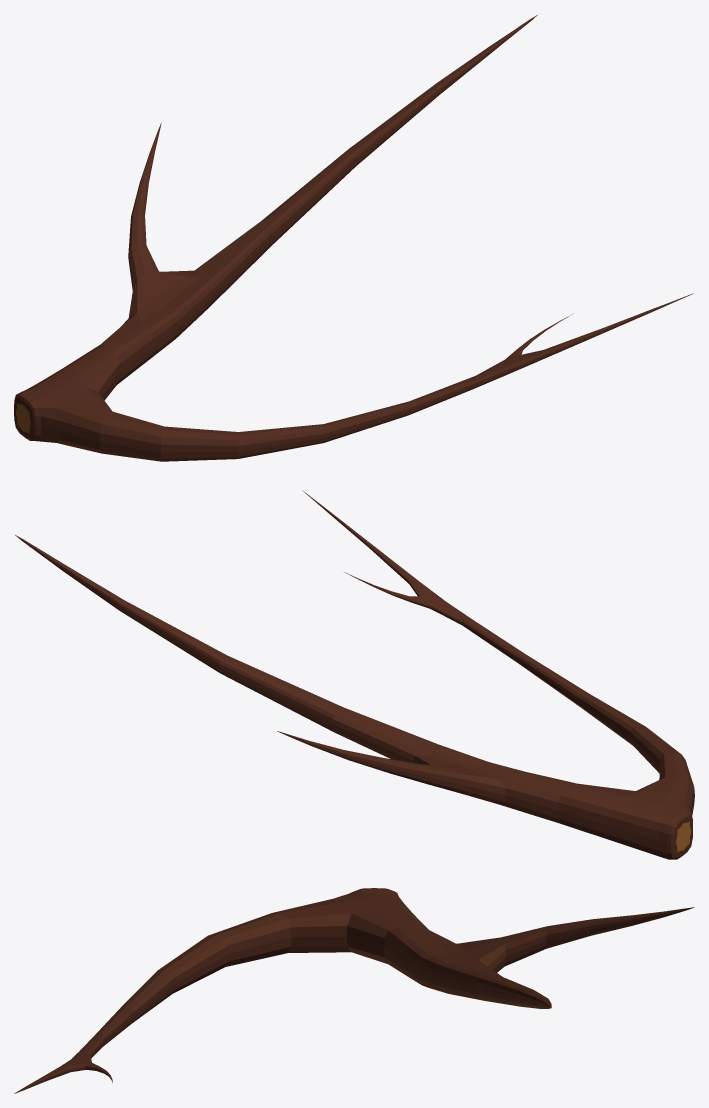
Rendered from StickRight.fbx.
3 renders of one model, top to bottom at view 1: azimuth 30°, elevation 25°; view 2: azimuth 150°, elevation 25°; view 3: azimuth 270°, elevation 25°, orthographic. The views are drawn at different scales.
Visible parts, largest first — view 1: Веткаправ; view 2: Веткаправ; view 3: Веткаправ.
Part boxes in pixels (x1,y1,x2,y2): Веткаправ: (14,15,693,461); Веткаправ: (15,490,694,859); Веткаправ: (14,888,694,1093).
Size of the model in its own units: 488 by 181 by 402.
